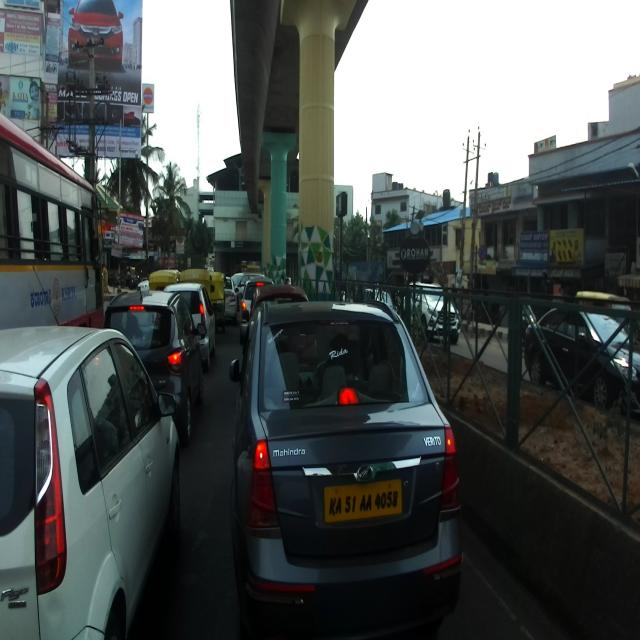bus: (0, 104, 95, 322)
car: (228, 300, 463, 639), (0, 264, 177, 639), (98, 289, 201, 459)
